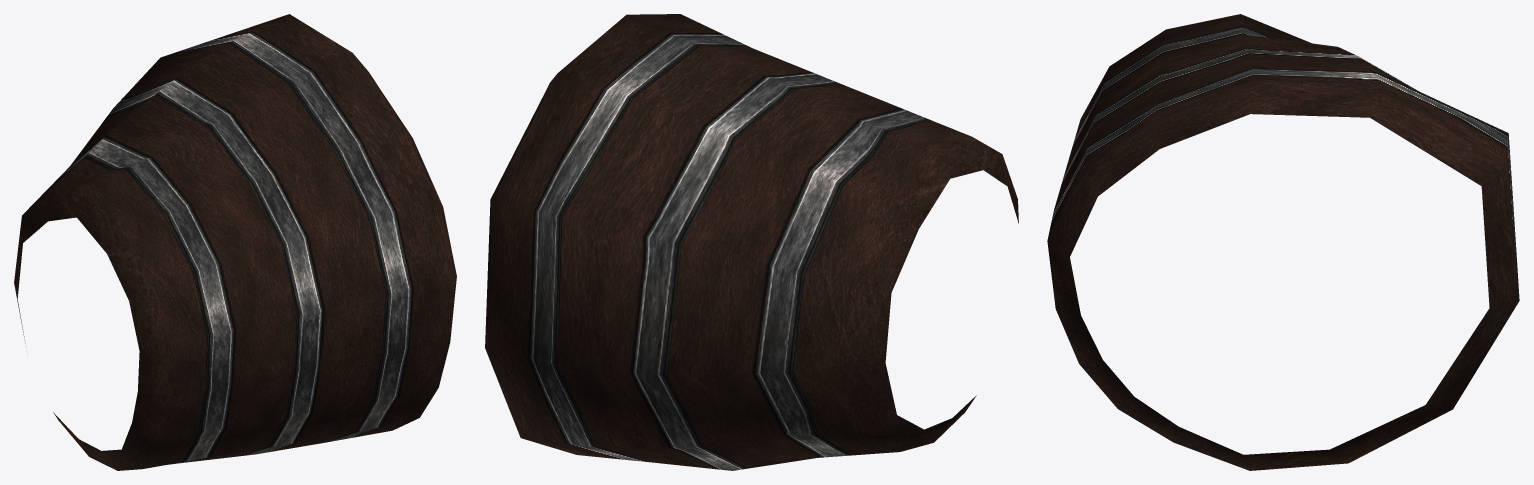
File: mm9_imp_wrapr.glb
The picture shows the model from 3 angles, left to right: view 1: azimuth 30°, elevation 25°; view 2: azimuth 150°, elevation 25°; view 3: azimuth 270°, elevation 25°; orthographic projection. The views are drawn at different scales.
Visible parts, largest first — view 1: Xwrap R; view 2: Xwrap R; view 3: Xwrap R.
Part boxes in pixels (x1=…): Xwrap R: x1=14, y1=14, x2=456, y2=470; Xwrap R: x1=485, y1=14, x2=1018, y2=470; Xwrap R: x1=1047, y1=14, x2=1519, y2=470.
Bounding box in the file's own units: 0.0864 × 0.1038 × 0.1155.
1 material, 1 textured.
